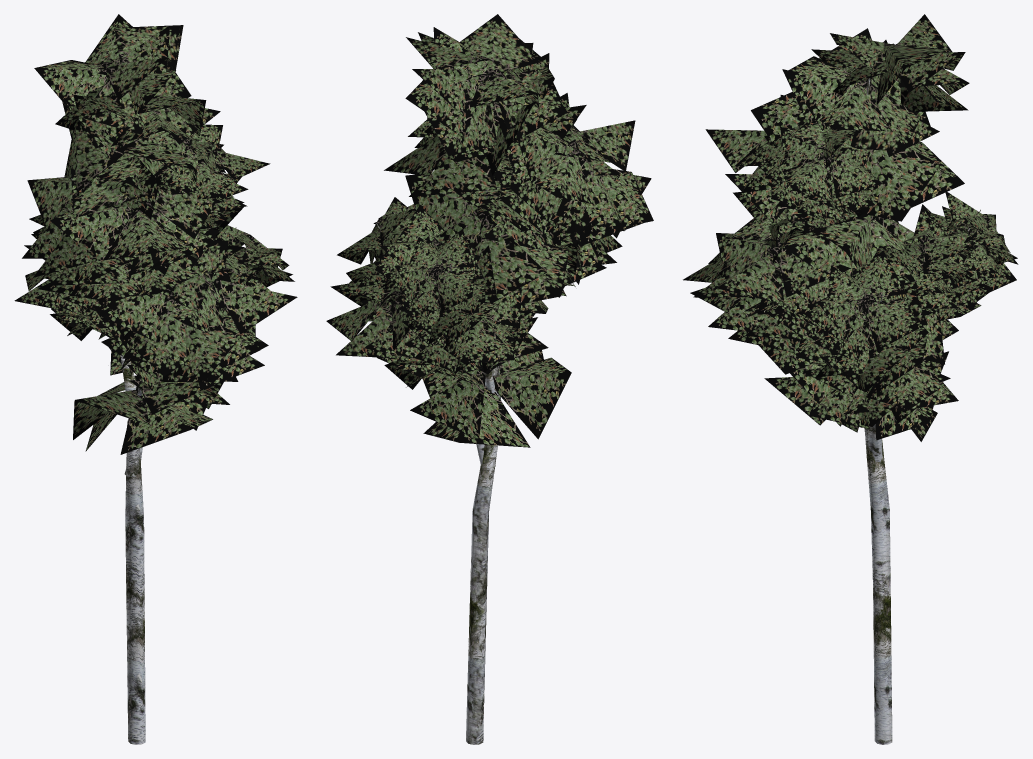
File: 1_birchSmall_model.obj
3 views of the same model, side by side, from view 1: azimuth 30°, elevation 25°; view 2: azimuth 150°, elevation 25°; view 3: azimuth 270°, elevation 25° (orthographic).
Parts seen in each view (by area): view 1: birch_tree_LOD_1500; view 2: birch_tree_LOD_1500; view 3: birch_tree_LOD_1500.
Boxes of the visible parts, box(x1,y1,x2,y2) form: birch_tree_LOD_1500: box(14, 14, 297, 744); birch_tree_LOD_1500: box(326, 14, 653, 744); birch_tree_LOD_1500: box(683, 14, 1018, 744).
Bounding box in the file's own units: 23.72 × 57.31 × 24.54.
Materials: 2 (2 with a texture image).
